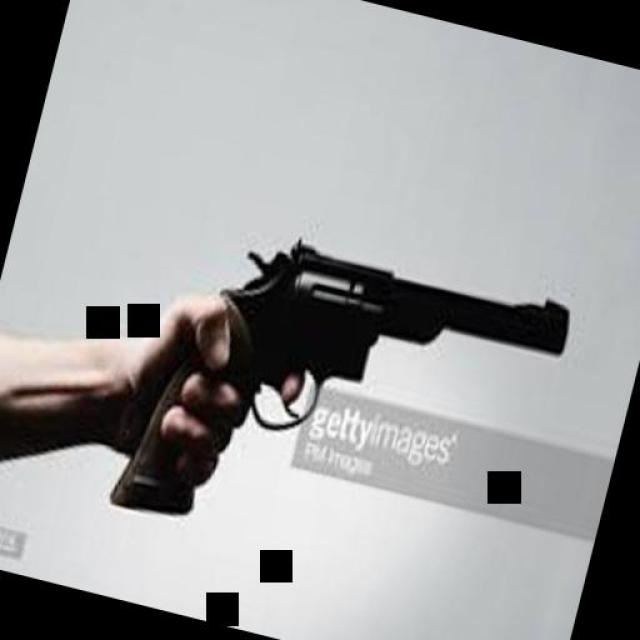gun: (104, 202, 576, 596)
